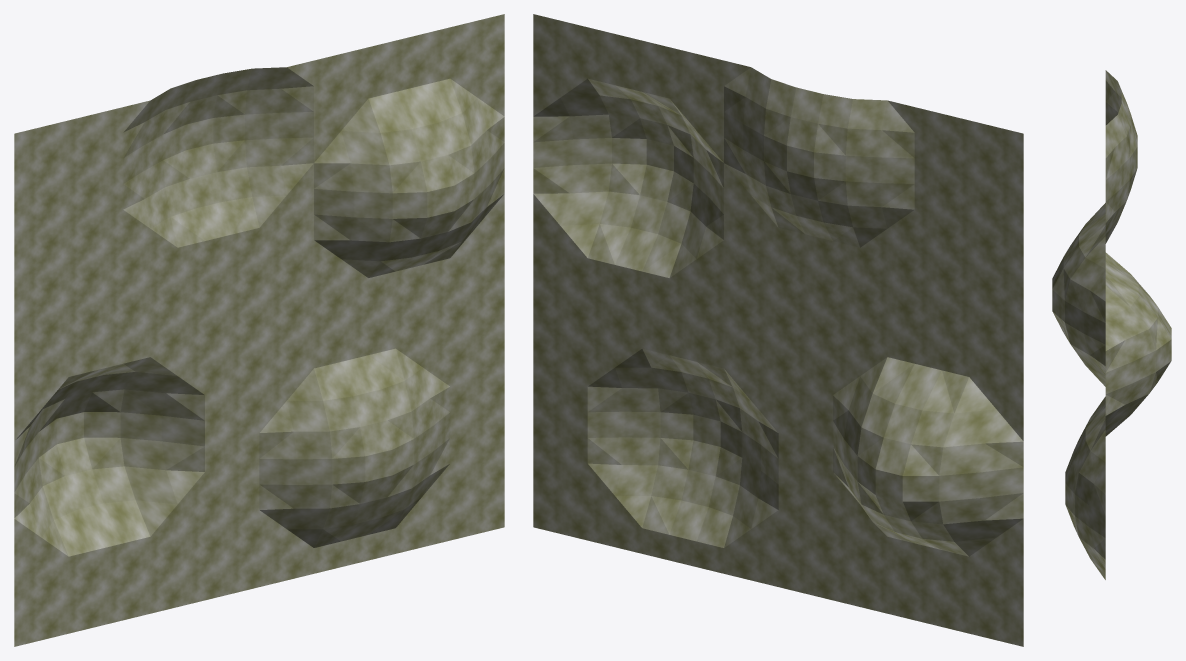
File: Ground1.fbx
The picture shows the model from 3 angles, left to right: view 1: azimuth 30°, elevation 25°; view 2: azimuth 150°, elevation 25°; view 3: azimuth 270°, elevation 25°; orthographic projection. The views are drawn at different scales.
Parts seen in each view (by area): view 1: 平面; view 2: 平面; view 3: 平面.
Boxes of the visible parts, left/top/right/bottom form: 平面: left=14, top=14, right=504, bottom=646; 平面: left=533, top=14, right=1023, bottom=646; 平面: left=1052, top=70, right=1171, bottom=579.
Size of the model in its own units: 45.78 by 45.78 by 11.46.
